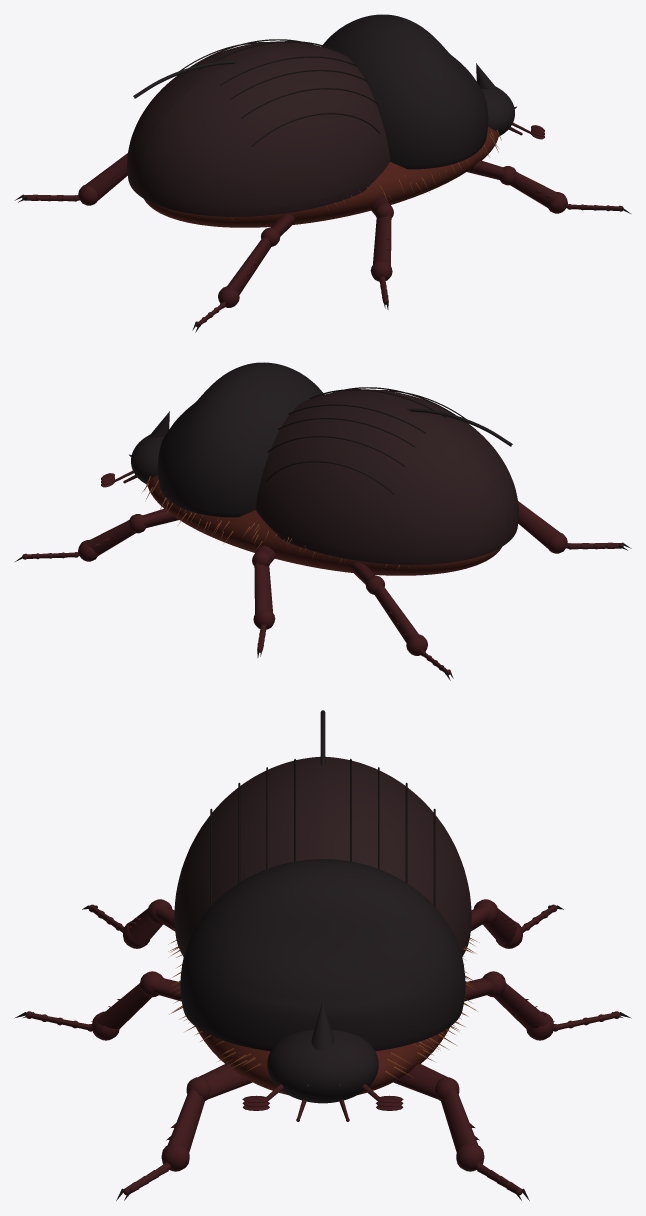
The model's file is kumbang_oryctes.glb.
3 views of the same model, one above another, from view 1: azimuth 30°, elevation 25°; view 2: azimuth 150°, elevation 25°; view 3: azimuth 270°, elevation 25° (orthographic). The views are drawn at different scales.
Visible parts, largest first — view 1: elytra, pronotum, underside, head, tibia_hind_R, tibia_hind_L, tibia_mid_R, tibia_front_R, elytral_suture; view 2: elytra, pronotum, underside, head, tibia_hind_L, tibia_hind_R, tibia_mid_L, tibia_front_L, underside_hair, elytral_suture; view 3: pronotum, elytra, head, underside, tibia_front_L, tibia_front_R, tibia_mid_L, tibia_mid_R, underside_hair, femur_front_L, femur_front_R, horn.
Boxes of the visible parts, x1=… form: elytra: x1=127, y1=41, x2=390, y2=216; pronotum: x1=322, y1=14, x2=488, y2=169; underside: x1=144, y1=127, x2=498, y2=227; head: x1=481, y1=87, x2=514, y2=136; tibia_hind_R: x1=227, y1=237, x2=271, y2=294; tibia_hind_L: x1=86, y1=153, x2=127, y2=201; tibia_mid_R: x1=373, y1=215, x2=391, y2=267; tibia_front_R: x1=510, y1=172, x2=560, y2=207; elytral_suture: x1=133, y1=60, x2=238, y2=98; elytra: x1=255, y1=389, x2=518, y2=564; pronotum: x1=157, y1=362, x2=323, y2=517; underside: x1=147, y1=475, x2=501, y2=575; head: x1=131, y1=435, x2=164, y2=484; tibia_hind_L: x1=374, y1=585, x2=418, y2=642; tibia_hind_R: x1=518, y1=501, x2=559, y2=549; tibia_mid_L: x1=254, y1=563, x2=272, y2=615; tibia_front_L: x1=85, y1=520, x2=135, y2=555; underside_hair: x1=141, y1=476, x2=409, y2=568; elytral_suture: x1=407, y1=408, x2=512, y2=446; pronotum: x1=180, y1=859, x2=465, y2=1051; elytra: x1=174, y1=756, x2=471, y2=956; head: x1=267, y1=1029, x2=378, y2=1103; underside: x1=196, y1=1027, x2=449, y2=1094; tibia_front_L: x1=441, y1=1089, x2=477, y2=1152; tibia_front_R: x1=168, y1=1089, x2=204, y2=1152; tibia_mid_L: x1=494, y1=983, x2=549, y2=1029; tibia_mid_R: x1=96, y1=983, x2=151, y2=1029; underside_hair: x1=168, y1=928, x2=479, y2=1080; femur_front_L: x1=393, y1=1063, x2=446, y2=1099; femur_front_R: x1=199, y1=1063, x2=252, y2=1099; horn: x1=311, y1=1000, x2=334, y2=1050.
Size of the model in its own units: 0.0446 by 0.0171 by 0.0399.
